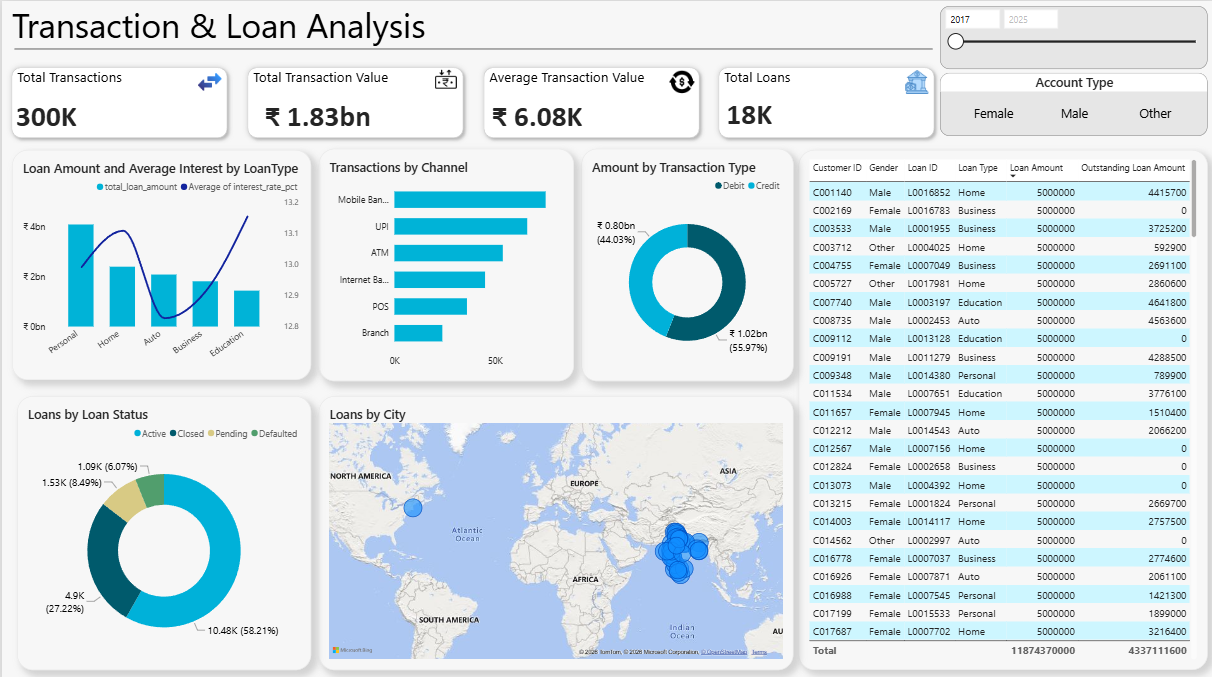

What the dashboard file says about the page in this screenshot:
{"tool":"powerbi","page":{"name":"Transaction & Loan Analysis","canvas":[1920,1080],"ordinal":2},"visuals":[{"type":"shape","box":[5.8,96.7,360,130],"z":0},{"type":"card","title":"Total Customers","fields":{"Values":["transaction_measures.total_transactions"]},"box":[2,135.7,137.3,85.5],"z":1000},{"type":"textbox","box":[23.3,106.2,293.9,58.4],"z":2000},{"type":"image","box":[284,108.4,90,40],"z":3000},{"type":"shape","box":[379.6,96.2,360,130],"z":4000},{"type":"card","title":"Total Customers","fields":{"Values":["transaction_measures.total_transactions_value"]},"box":[376,136,250,86],"z":5000},{"type":"textbox","box":[397.1,105.8,293.9,58.4],"z":6000},{"type":"image","box":[657.7,107.9,90,40],"z":7000},{"type":"shape","box":[753.7,96.1,360,130],"z":8000},{"type":"card","title":"Total Customers","fields":{"Values":["transaction_measures.average_transactions_value"]},"box":[749.7,135,197.1,86.1],"z":9000},{"type":"textbox","box":[771.2,105.7,293.9,58.4],"z":10000},{"type":"image","box":[1031.9,107.8,90,40],"z":11000},{"type":"shape","box":[1126.1,95.5,360,130],"z":12000},{"type":"card","title":"Total Customers","fields":{"Values":["loan_measures.total_loans"]},"box":[1092,134,184,86],"z":13000},{"type":"textbox","box":[1143.6,105.1,293.9,58.4],"z":14000},{"type":"image","box":[1404.3,107.3,90,40],"z":15000},{"type":"tableEx","fields":{"Values":["bank customers_analysis.customer_id","bank customers_analysis.gender","bank loans_analysis.loan_id","bank loans_analysis.loan_type","Sum(bank loans_analysis.loan_amount)","Sum(bank loans_analysis.outstanding_amount)"]},"box":[1262,236,648,824],"z":16000},{"type":"lineStackedColumnComboChart","title":"Loan Amount and Average Interest by LoanType","fields":{"Category":["bank loans_analysis.loan_type"],"Y":["loan_measures.total_loan_amount"],"Y2":["Avg(bank loans_analysis.interest_rate_pct)"]},"box":[16,236,474,364],"z":17000},{"type":"donutChart","title":"Amount by Transaction Type","fields":{"Y":["transaction_measures.total_transactions_value"],"Category":["bank transactions_analysis.transaction_type"]},"box":[918,234,336,368],"z":18000},{"type":"barChart","title":"Transactions by Channel","fields":{"Y":["transaction_measures.total_transactions"],"Category":["bank transactions_analysis.channel"]},"box":[502,234,404,368],"z":19000},{"type":"donutChart","title":"Loans by Loan Status","fields":{"Y":["CountNonNull(bank loans_analysis.loan_id)"],"Category":["bank loans_analysis.loan_status"]},"box":[24,626,466,434],"z":20000},{"type":"slicer","title":"Account Type","fields":{"Values":["bank customers_analysis.gender"]},"box":[1486.2,114.6,423.8,100],"z":21000},{"type":"slicer","title":"Account Type","fields":{"Values":["bank customers_analysis.year"]},"box":[1486.2,7.7,423.8,100],"z":22000},{"type":"textbox","box":[16,0,676,78],"z":23000},{"type":"shape","box":[20,68,1454,16],"z":24000},{"type":"map","title":"Loans by City","fields":{"Category":["bank customers_analysis.city"],"Size":["loan_measures.total_loans"]},"box":[502,626,752,434],"z":25000}]}

Visuals, with their boxes in screenshot pixels (x1, y1, x2, y2), scaled from the page's 1920x1080 canvas onto the 1212x677 screenshot:
shape: bbox(4, 61, 231, 142)
"Total Customers" card: bbox(1, 85, 88, 139)
textbox: bbox(15, 67, 200, 103)
image: bbox(179, 68, 236, 93)
shape: bbox(240, 60, 467, 142)
"Total Customers" card: bbox(237, 85, 395, 139)
textbox: bbox(251, 66, 436, 103)
image: bbox(415, 68, 472, 93)
shape: bbox(476, 60, 703, 142)
"Total Customers" card: bbox(473, 85, 598, 139)
textbox: bbox(487, 66, 672, 103)
image: bbox(651, 68, 708, 93)
shape: bbox(711, 60, 938, 141)
"Total Customers" card: bbox(689, 84, 805, 138)
textbox: bbox(722, 66, 907, 102)
image: bbox(886, 67, 943, 92)
tableEx - bank customers_analysis.customer_id x bank customers_analysis.gender: bbox(797, 148, 1206, 664)
"Loan Amount and Average Interest by LoanType" lineStackedColumnComboChart: bbox(10, 148, 309, 376)
"Amount by Transaction Type" donutChart: bbox(579, 147, 792, 377)
"Transactions by Channel" barChart: bbox(317, 147, 572, 377)
"Loans by Loan Status" donutChart: bbox(15, 392, 309, 664)
"Account Type" slicer: bbox(938, 72, 1206, 135)
"Account Type" slicer: bbox(938, 5, 1206, 68)
textbox: bbox(10, 0, 437, 49)
shape: bbox(13, 43, 930, 53)
"Loans by City" map: bbox(317, 392, 792, 664)
